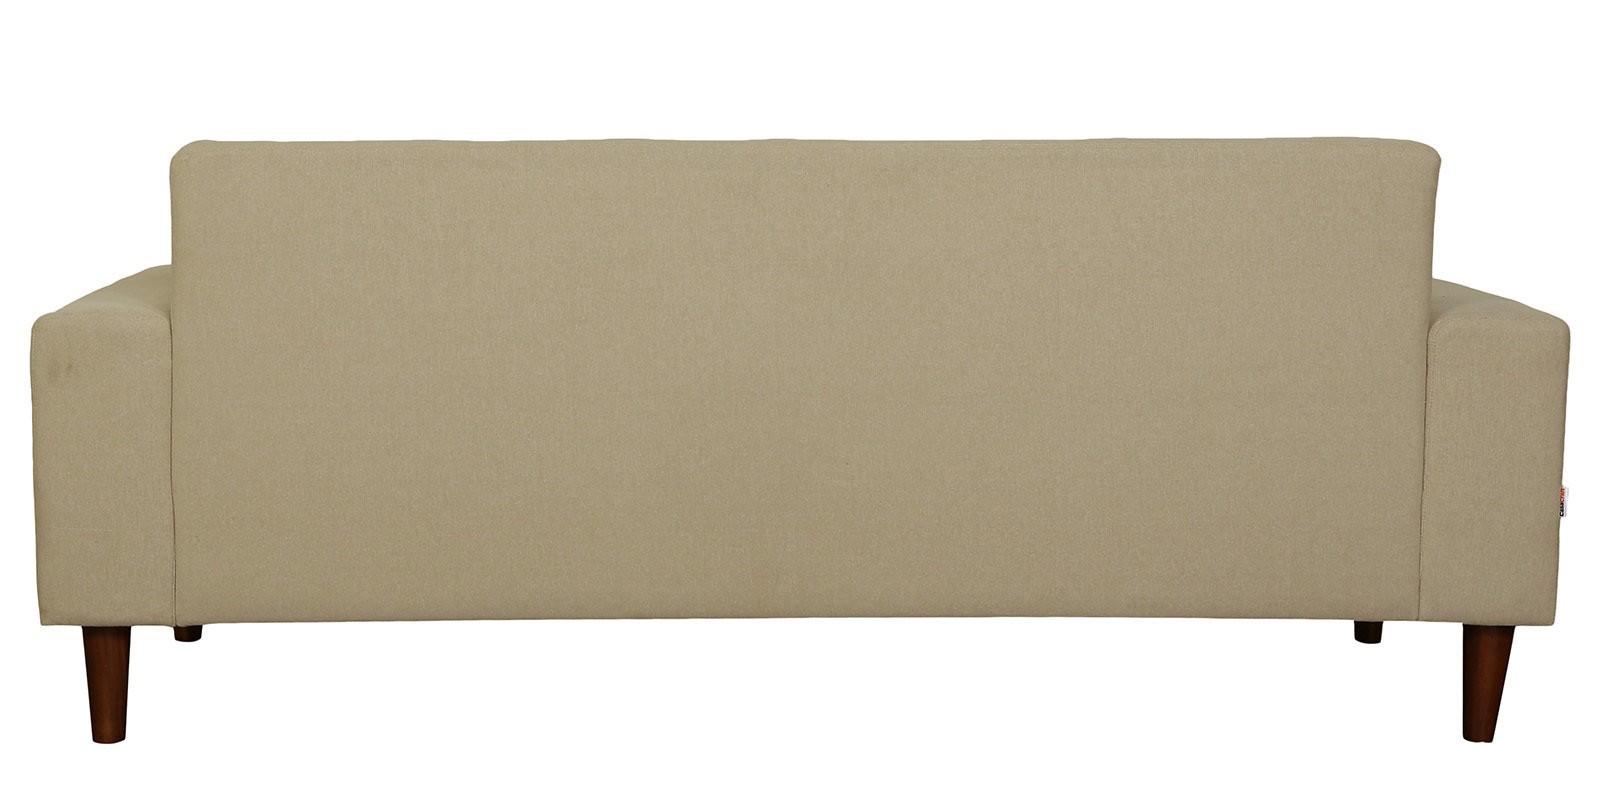Cordoba Three Seater Sofa in Beige Colour by CasaCraft: (6, 106, 1594, 752)
